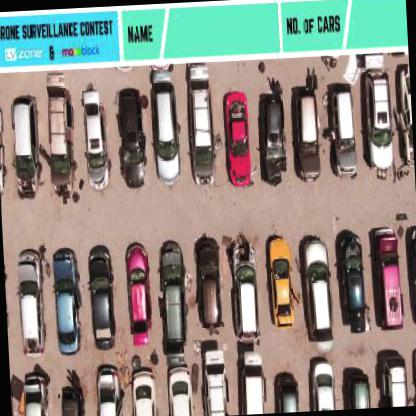car: (157, 242, 196, 415), (43, 73, 75, 196), (359, 55, 393, 170), (150, 62, 181, 186), (300, 235, 334, 347), (50, 247, 84, 354), (187, 66, 216, 190), (13, 249, 46, 357), (113, 86, 146, 188), (228, 235, 258, 344), (370, 228, 402, 330), (84, 246, 116, 348), (336, 232, 368, 331), (122, 242, 152, 346), (10, 95, 39, 200), (257, 92, 287, 186), (79, 90, 108, 187), (223, 89, 251, 188), (192, 236, 222, 328), (293, 87, 321, 183), (330, 83, 358, 177), (266, 235, 294, 329), (201, 348, 230, 416), (236, 350, 266, 414), (396, 64, 413, 168), (378, 349, 408, 406), (94, 363, 125, 415), (19, 369, 52, 415), (308, 358, 337, 410), (129, 367, 158, 415), (403, 224, 415, 330), (272, 372, 300, 412), (344, 371, 369, 408), (59, 384, 83, 415), (408, 345, 415, 406)
